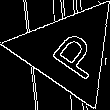P_NW: (35, 21, 102, 81)
